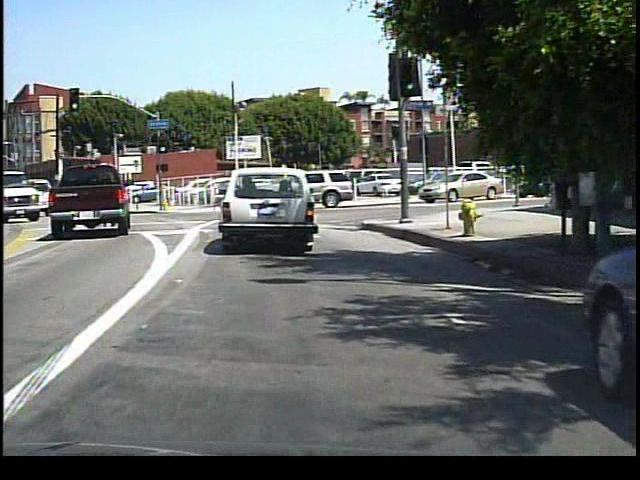person: (398, 164, 416, 203)
